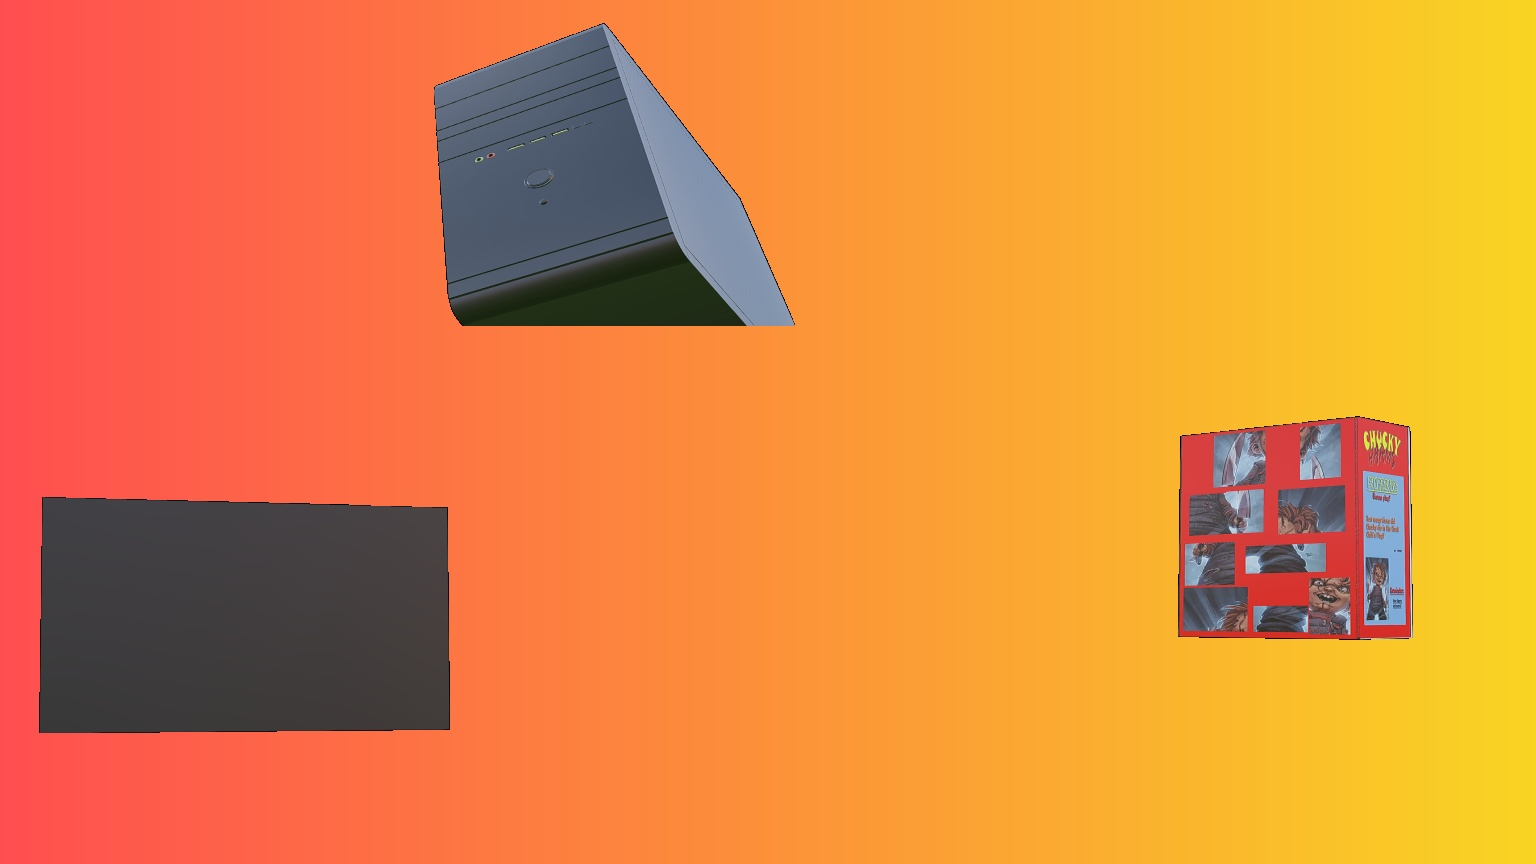caja: (1177, 416, 1414, 640)
ordenador: (433, 23, 796, 326)
teclado: (39, 496, 450, 734)
